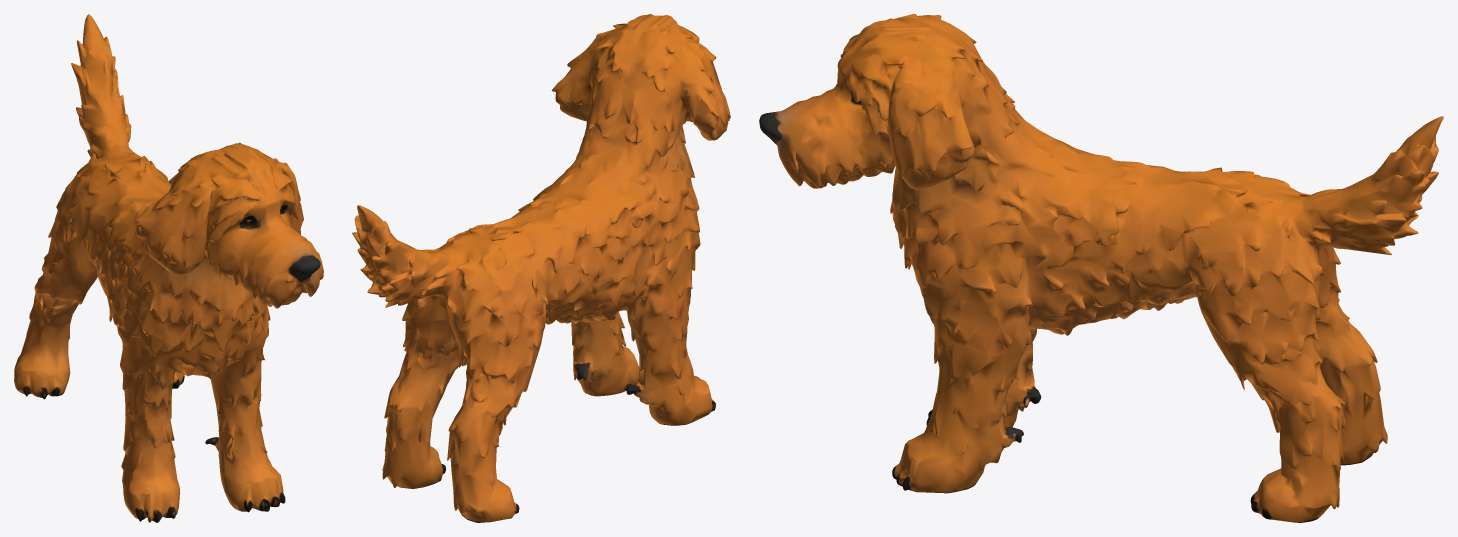
Rendered from leo.glb.
3 renders of one model, left to right at view 1: azimuth 30°, elevation 25°; view 2: azimuth 150°, elevation 25°; view 3: azimuth 270°, elevation 25°, orthographic. The views are drawn at different scales.
Parts seen in each view (by area): view 1: tripo_node_af7afbe7-6d3a-48f1-b7d2-81a4a9b856b0; view 2: tripo_node_af7afbe7-6d3a-48f1-b7d2-81a4a9b856b0; view 3: tripo_node_af7afbe7-6d3a-48f1-b7d2-81a4a9b856b0.
Boxes of the visible parts, box(x1,y1,x2,y2) form: tripo_node_af7afbe7-6d3a-48f1-b7d2-81a4a9b856b0: box(14, 14, 323, 522); tripo_node_af7afbe7-6d3a-48f1-b7d2-81a4a9b856b0: box(352, 14, 730, 522); tripo_node_af7afbe7-6d3a-48f1-b7d2-81a4a9b856b0: box(759, 14, 1443, 522).
Bounding box in the file's own units: 0.3835 × 0.7192 × 0.9998.
Materials: 1 (1 with a texture image).
